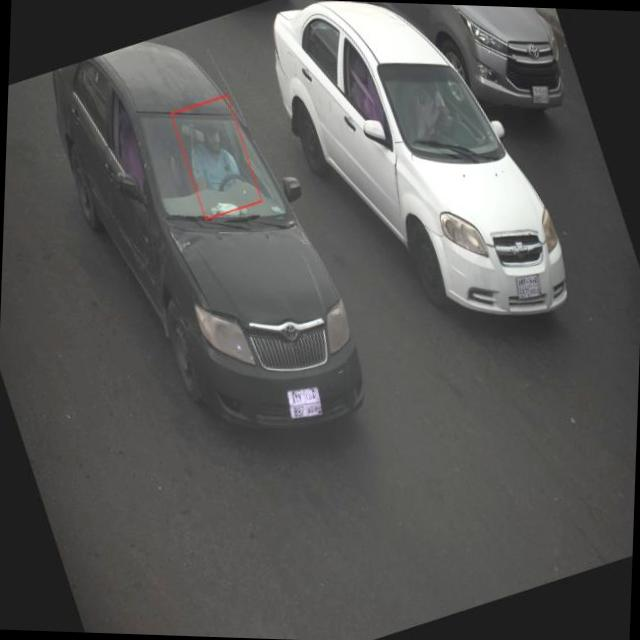person_without_seatbelt: (178, 114, 248, 204)
